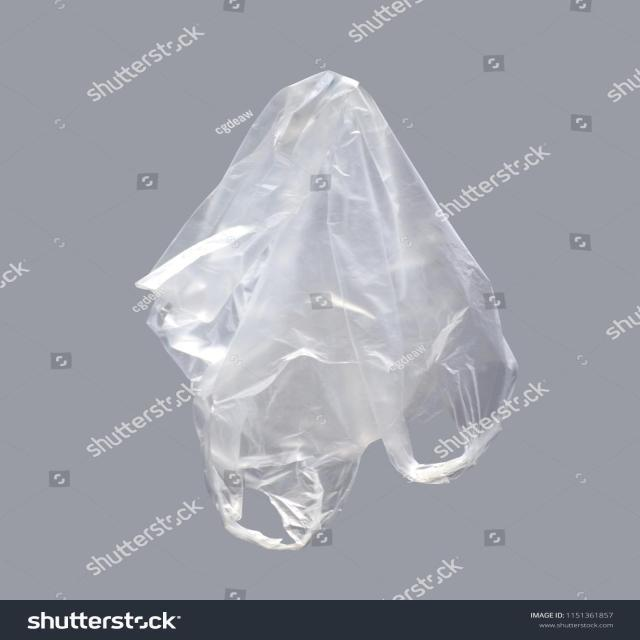KantongPlastik: (133, 68, 520, 551)
